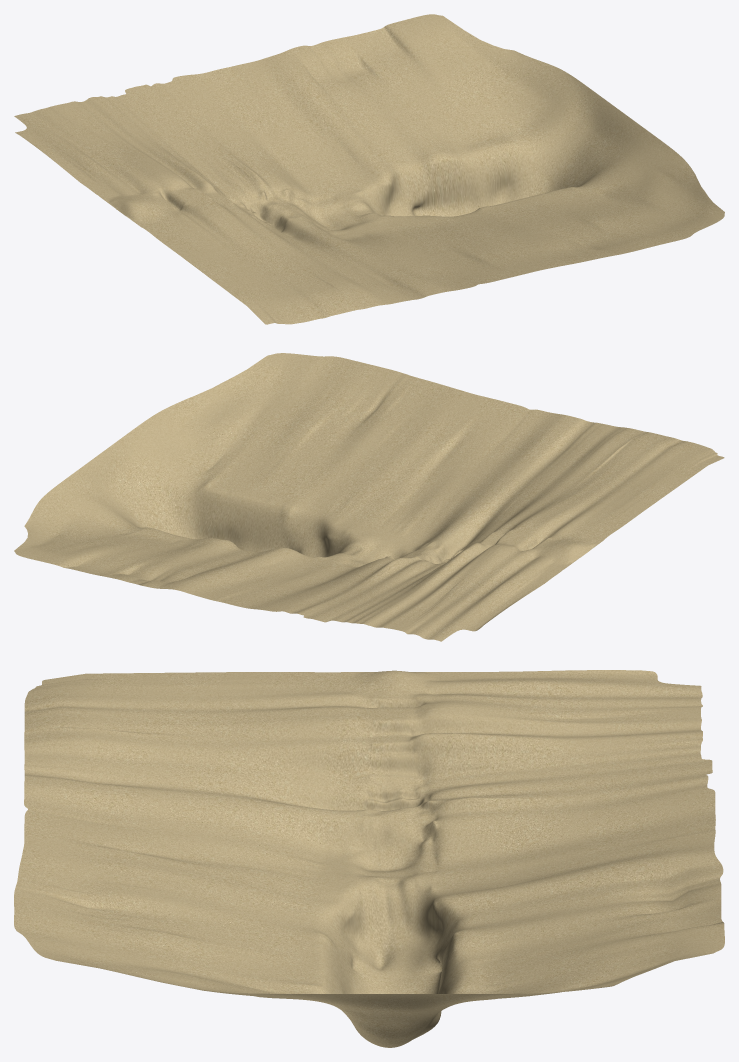
File: Terrain_Background 1.fbx
The picture shows the model from 3 angles, top to bottom: view 1: azimuth 30°, elevation 25°; view 2: azimuth 150°, elevation 25°; view 3: azimuth 270°, elevation 25°; orthographic projection. The views are drawn at different scales.
Parts seen in each view (by area): view 1: Terrain; view 2: Terrain; view 3: Terrain.
Boxes of the visible parts, x1,y1,x2,y2 form: Terrain: (14,14,724,324); Terrain: (14,353,724,641); Terrain: (14,670,724,1047).
Bounding box in the file's own units: 577 × 134 × 585.
